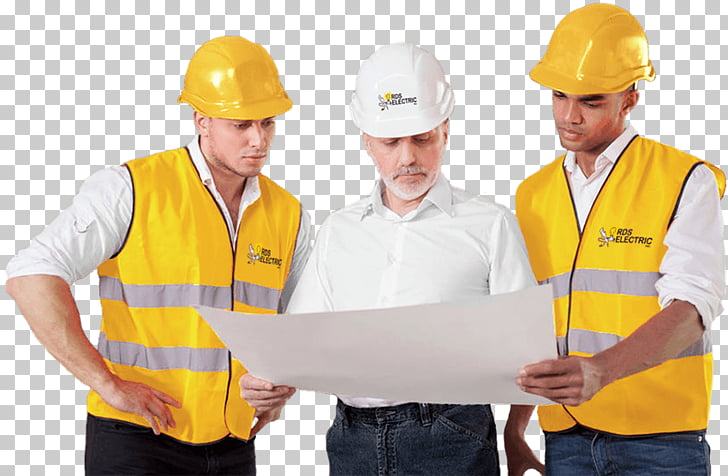casco: (527, 4, 657, 96), (348, 42, 457, 140), (176, 34, 295, 123)
